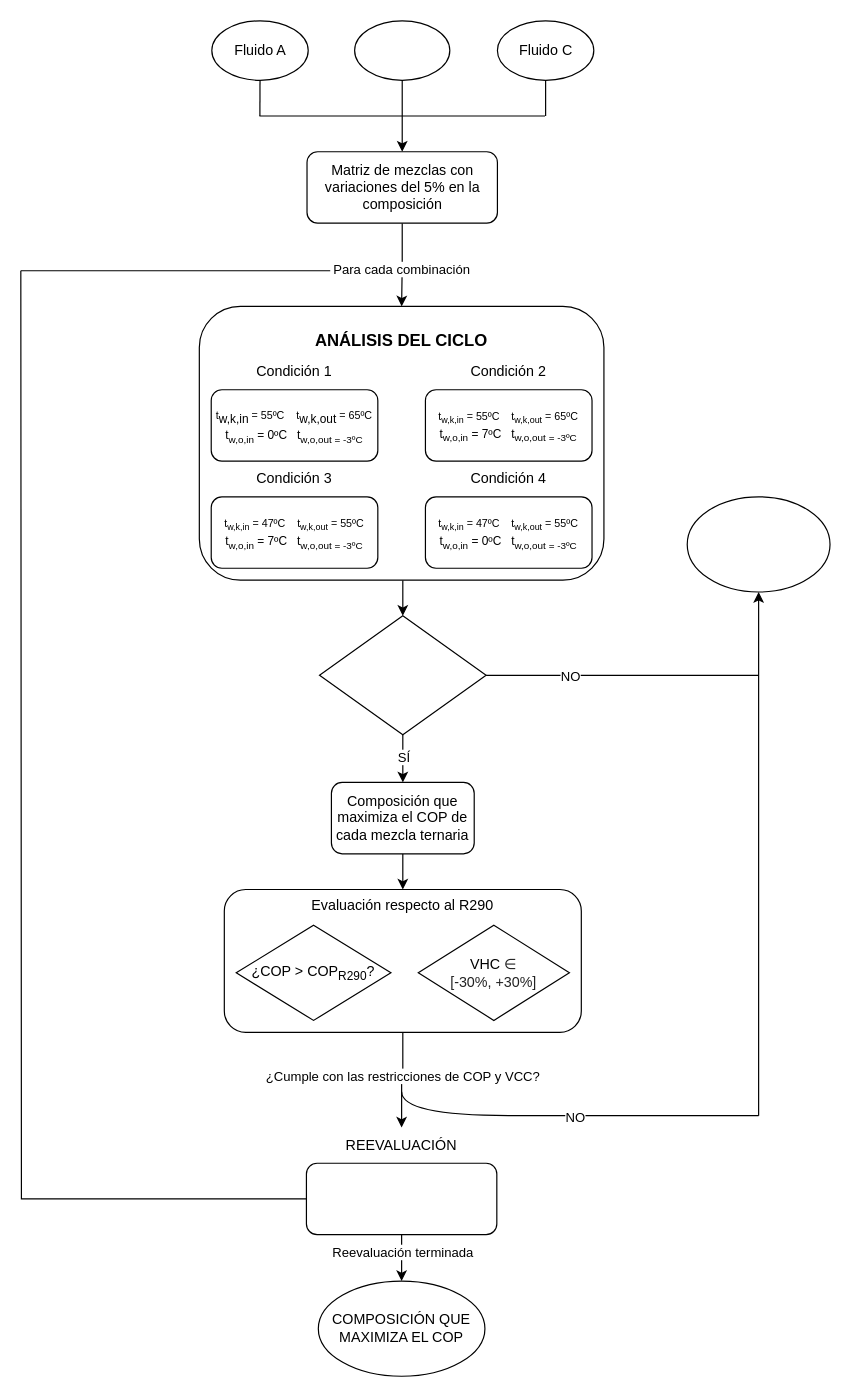
The diagram is 851 pixels wide and 1397 high, and some of its shapes have lost their labels. Here are the shapes that lost their labels. From the top down, the centre of each, then its label:
the point at 401,50: Fluido B
the point at 758,544: MEZCLA DESCARTADA
the point at 402,675: ¿Cumple todos las restricciones?
the point at 401,1198: Matriz de mezclas con variaciones del 1% en la composición
